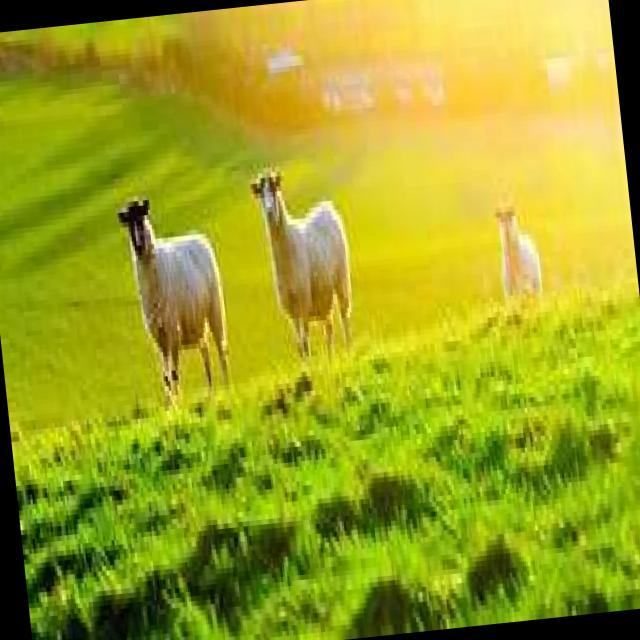sheep: (113, 185, 234, 398), (250, 158, 357, 368), (491, 201, 543, 301)
